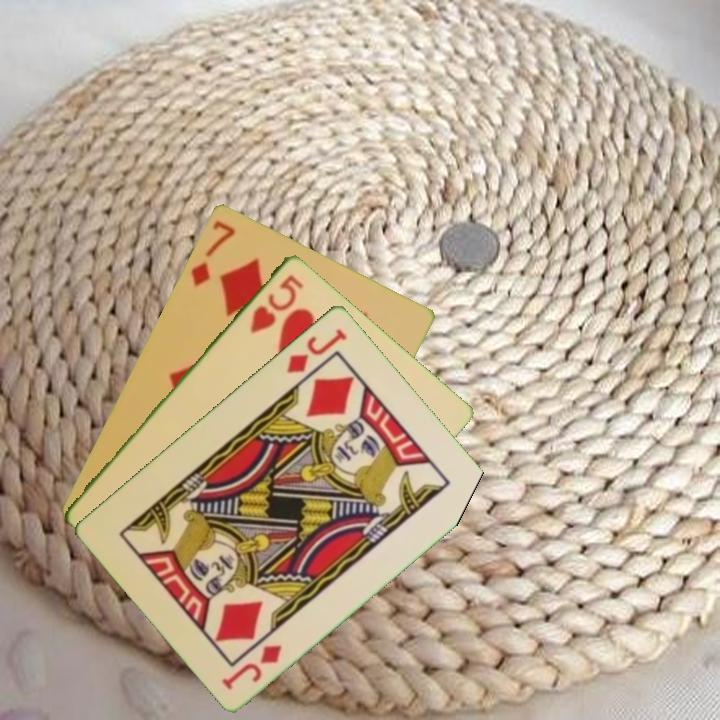5h: (246, 270, 307, 336)
7d: (187, 216, 239, 289)
Jd: (218, 640, 286, 693), (283, 324, 351, 376)
